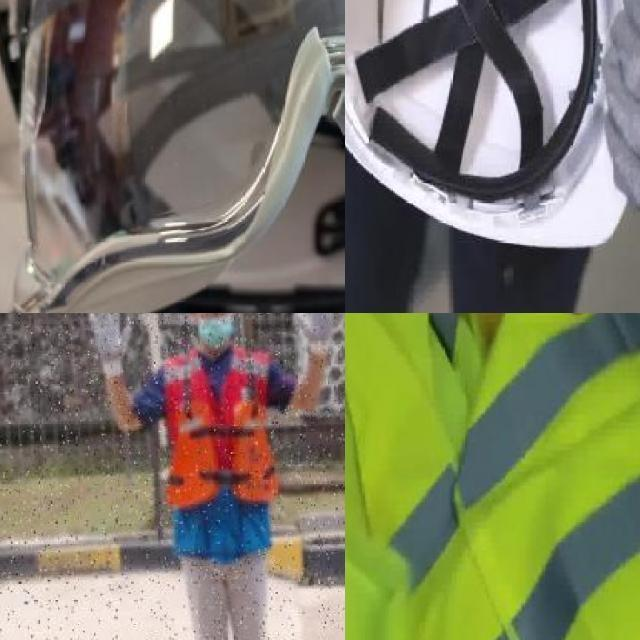apron: (599, 0, 640, 214), (83, 313, 134, 375), (290, 313, 341, 359)
